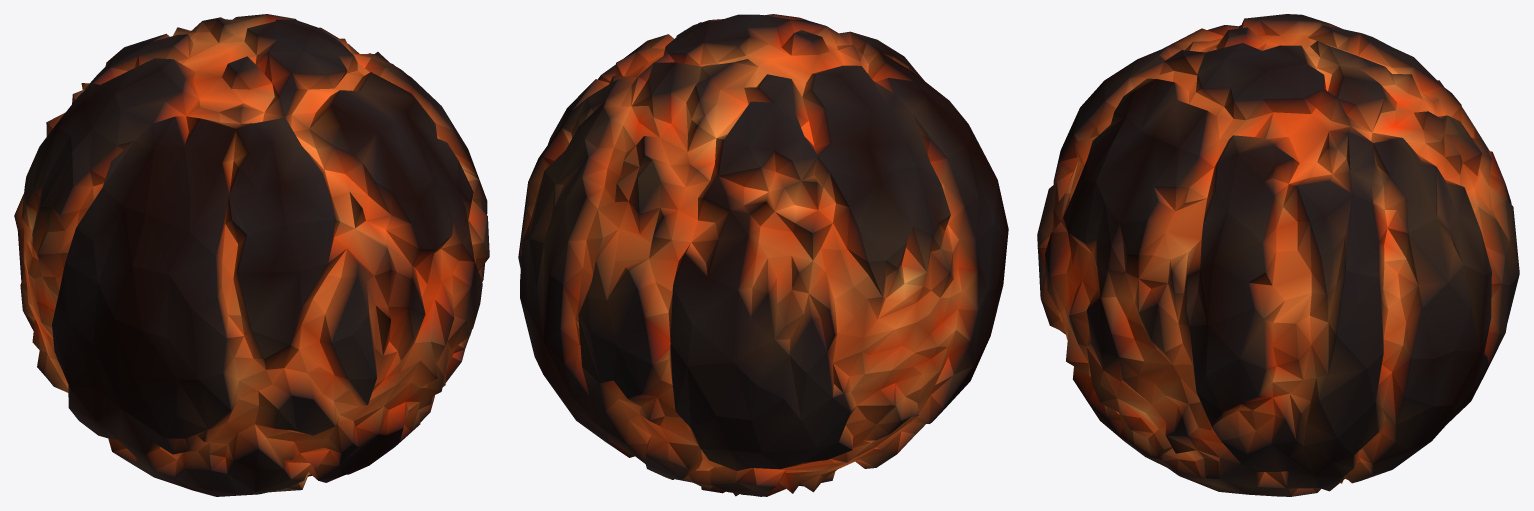
File: barren_3.fbx
3 renders of one model, left to right at view 1: azimuth 30°, elevation 25°; view 2: azimuth 150°, elevation 25°; view 3: azimuth 270°, elevation 25°, orthographic.
Visible parts, largest first — view 1: filecache1; view 2: filecache1; view 3: filecache1.
Part boxes in pixels (x1=…): filecache1: x1=14, y1=14, x2=489, y2=496; filecache1: x1=518, y1=14, x2=1008, y2=496; filecache1: x1=1037, y1=14, x2=1519, y2=496.
Size of the model in its own units: 2.15 by 2.16 by 2.17.
